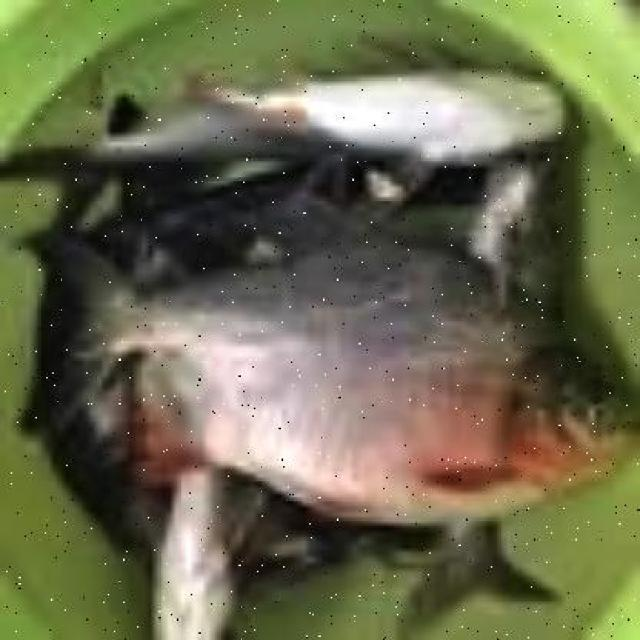ikan-pacu: (108, 243, 630, 523)
